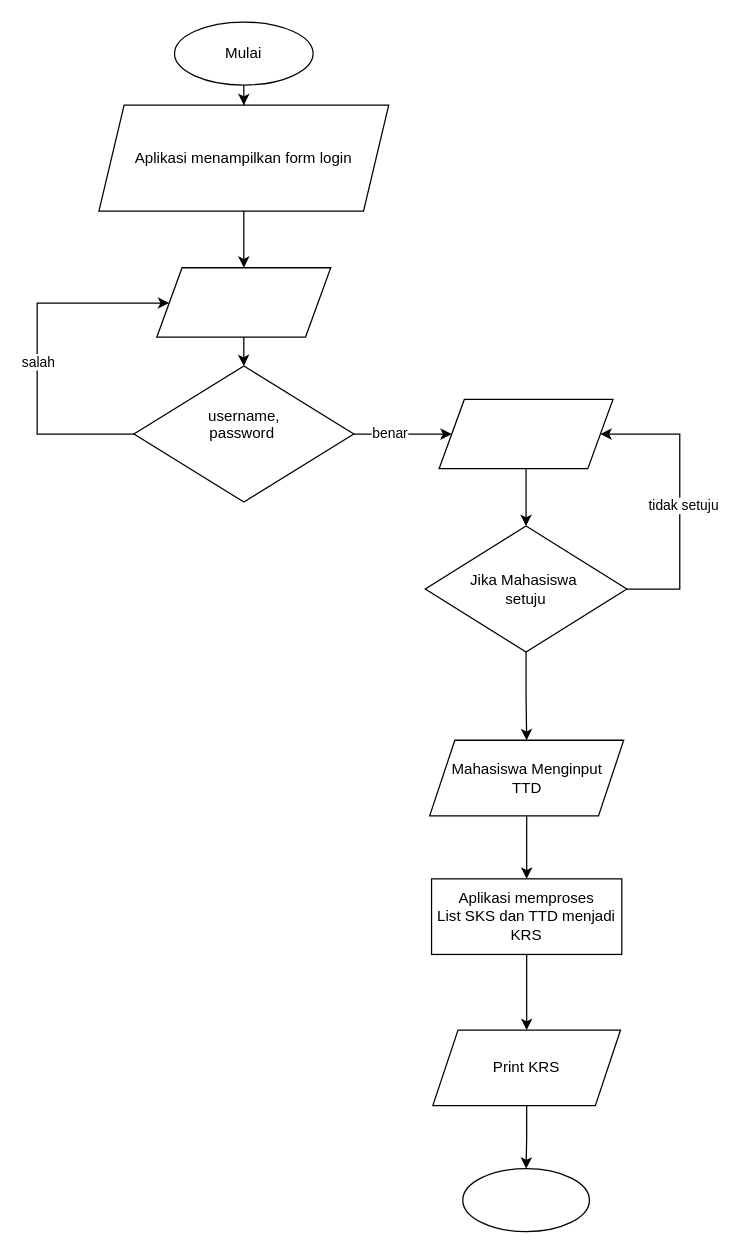
This 740x1254 diagram has some shape labels left out. The centre of each missing label's shape, as x and y in pixels:
"masukan username dan password" goes at point 243,301.
"Menampilkan list SKS" goes at point 525,433.
"Selesai" goes at point 525,1199.
